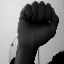a: (17, 1, 59, 39)
